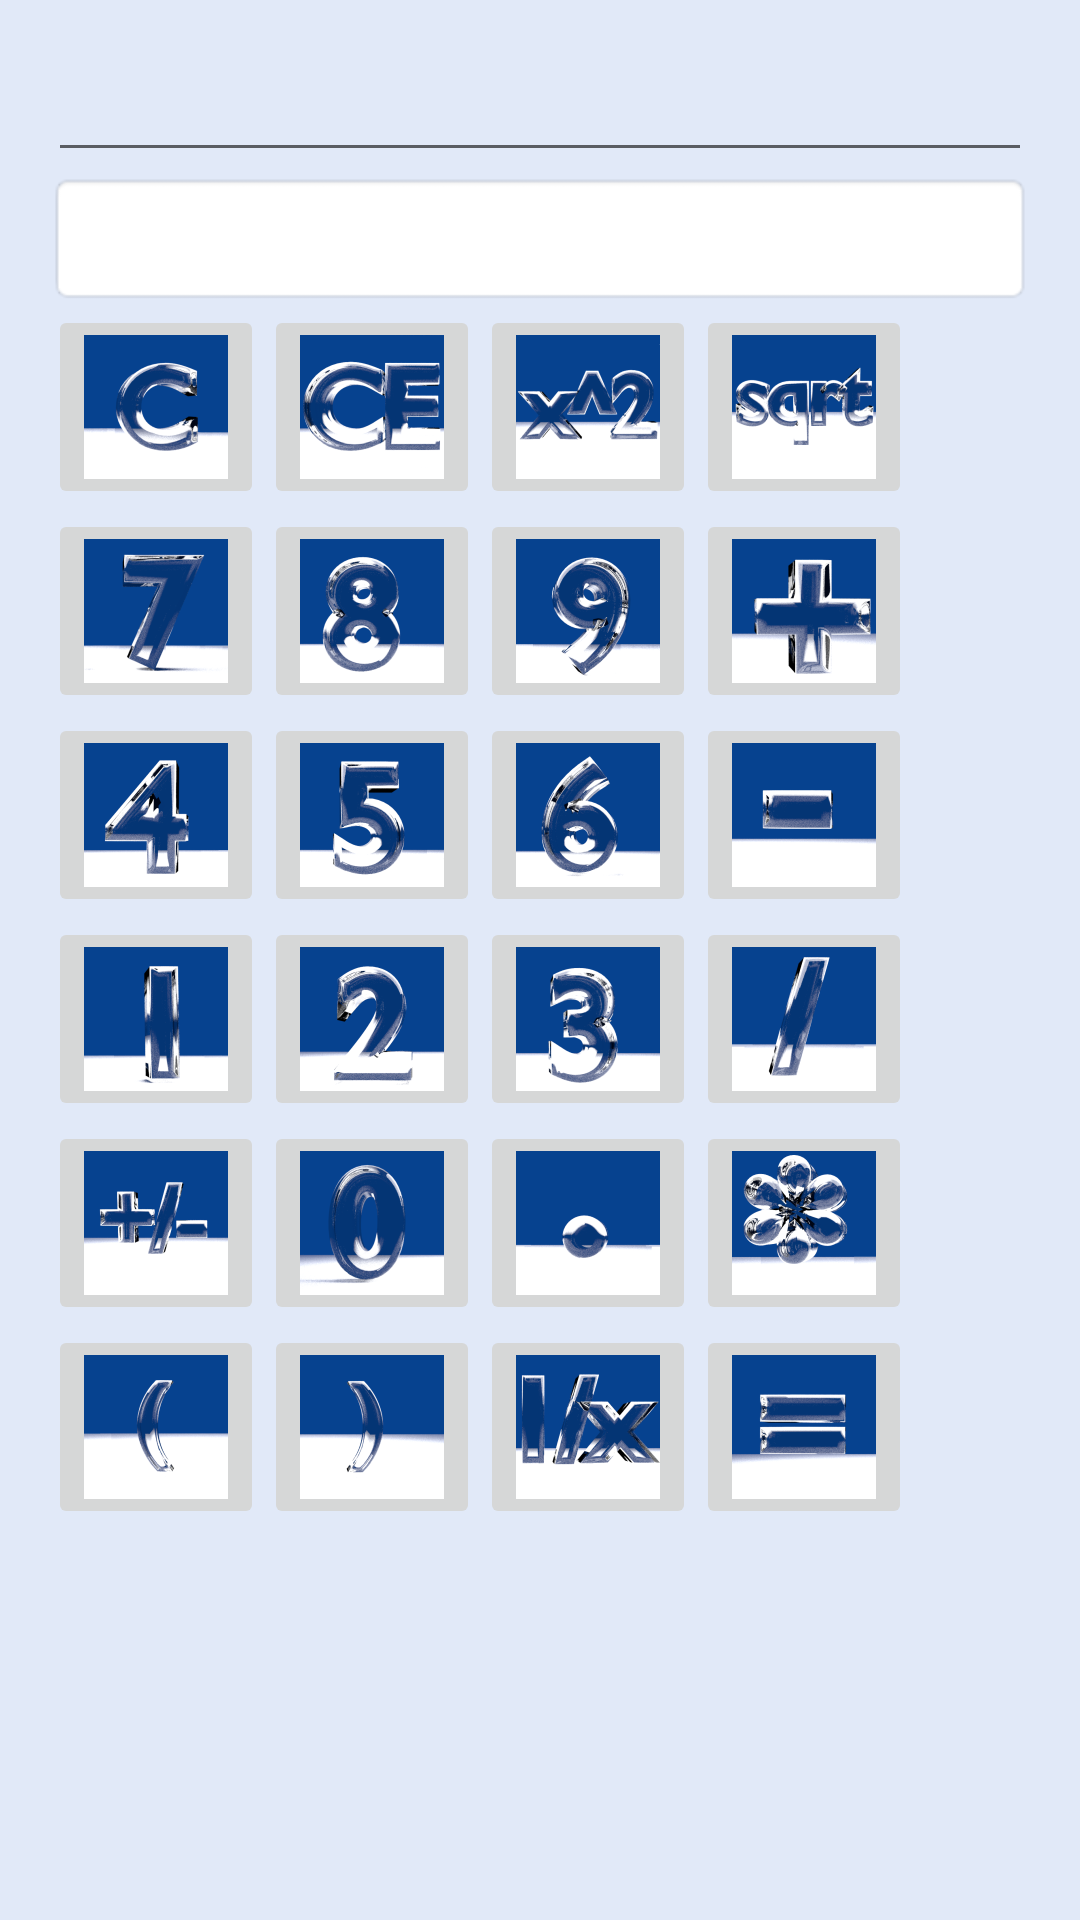

Named icons in this screenshot (1080w x 1920h) and their centers, (x=x, y=y):
div: (x=804, y=1019)
dot: (x=588, y=1223)
equal: (x=804, y=1427)
minus: (x=804, y=815)
multi: (x=804, y=1223)
nawiasclose: (x=372, y=1427)
nawiasopen: (x=156, y=1427)
odwr: (x=588, y=1427)
plusminus: (x=156, y=1223)
sum: (x=804, y=611)
